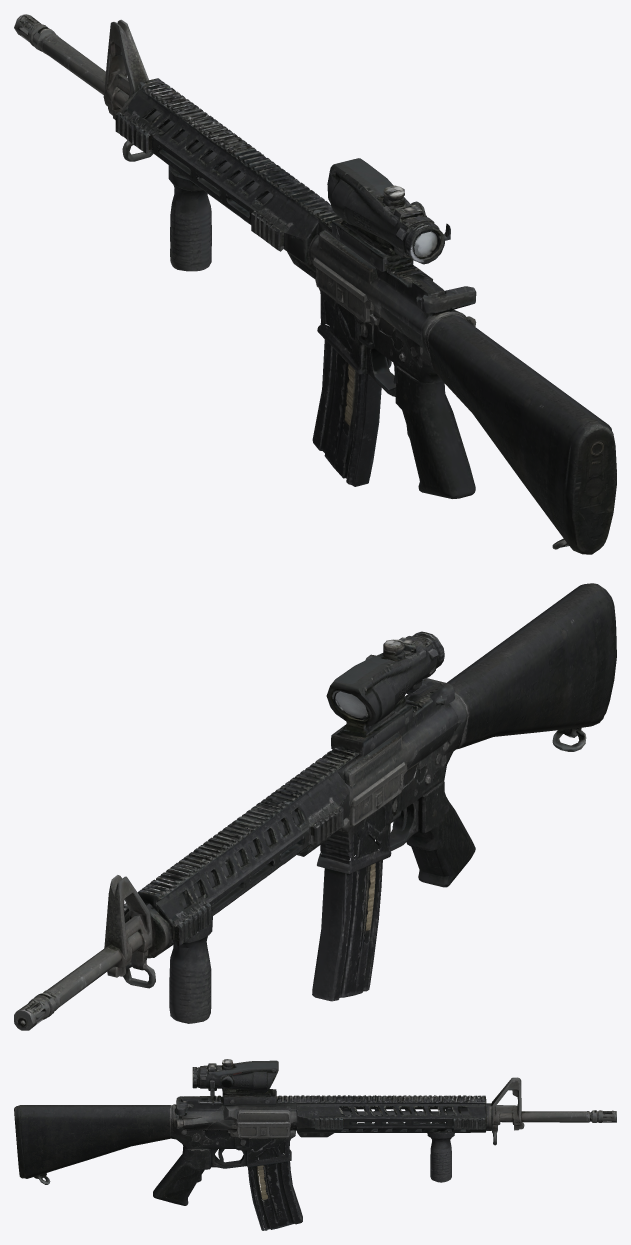
The model's file is spotter.glb.
3 renders of one model, top to bottom at view 1: azimuth 30°, elevation 25°; view 2: azimuth 150°, elevation 25°; view 3: azimuth 270°, elevation 25°, orthographic. The views are drawn at different scales.
Visible parts, largest first — view 1: body, mag; view 2: body, mag; view 3: body, mag.
Boxes of the visible parts, x1,y1,x2,y2 form: body: (14, 14, 616, 554); mag: (312, 318, 354, 483); body: (14, 583, 616, 1030); mag: (312, 839, 382, 1001); body: (14, 1059, 616, 1230); mag: (256, 1149, 301, 1230).
Size of the model in its own units: 0.091 by 0.3775 by 1.22.
1 material, 1 textured.
